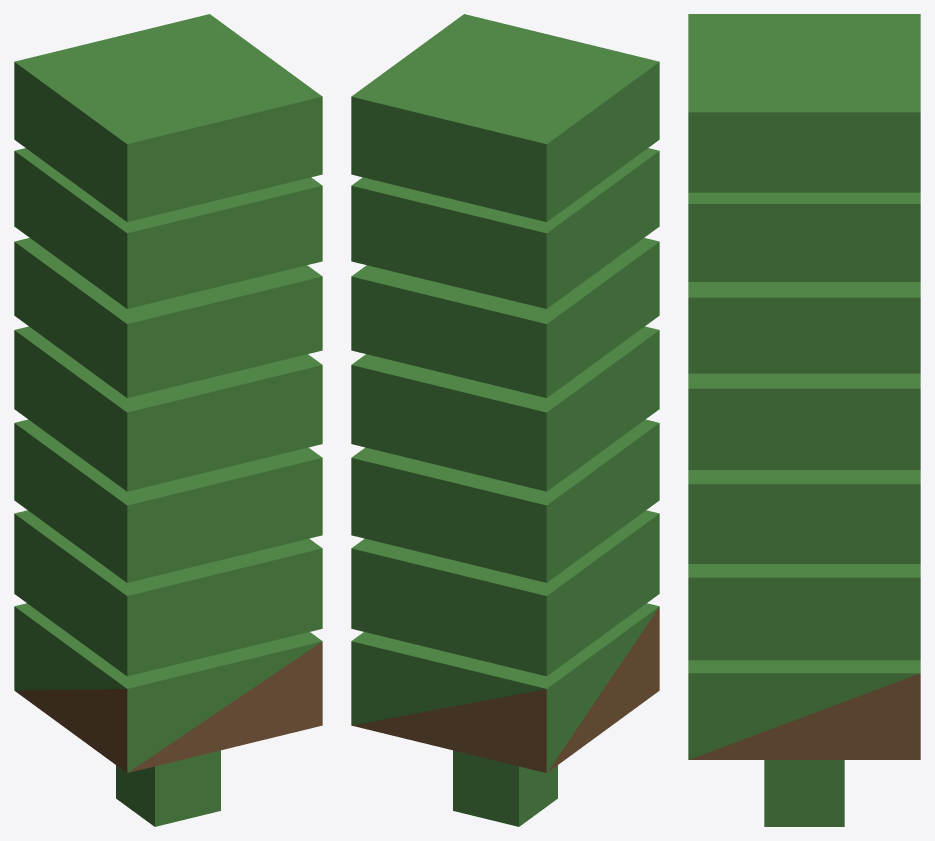
Rendered from tree3d-045.glb.
The picture shows the model from 3 angles, left to right: view 1: azimuth 30°, elevation 25°; view 2: azimuth 150°, elevation 25°; view 3: azimuth 270°, elevation 25°; orthographic projection. The views are drawn at different scales.
Visible parts, largest first — view 1: tree3d-045; view 2: tree3d-045; view 3: tree3d-045.
Part boxes in pixels (x1=…): tree3d-045: x1=14, y1=14, x2=322, y2=826; tree3d-045: x1=351, y1=14, x2=659, y2=826; tree3d-045: x1=688, y1=14, x2=920, y2=826.
Bounding box in the file's own units: 0.282 × 1 × 0.282.
